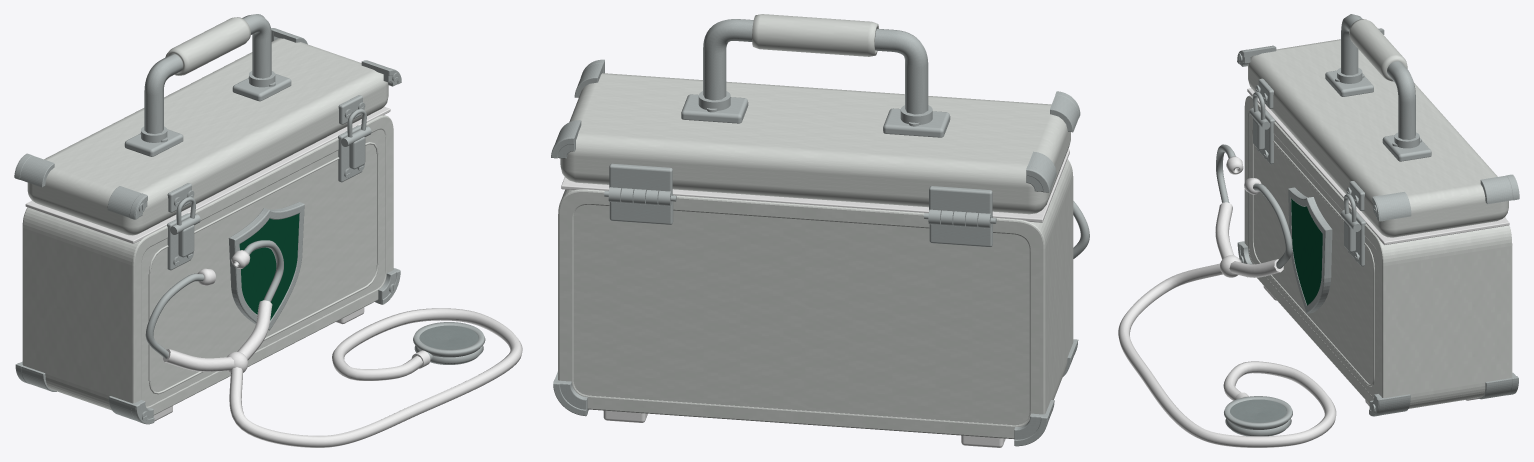
File: medical.glb
3 renders of one model, left to right at view 1: azimuth 30°, elevation 25°; view 2: azimuth 150°, elevation 25°; view 3: azimuth 270°, elevation 25°, orthographic. The views are drawn at different scales.
Visible parts, largest first — view 1: M-Case-Lid, M-Body-Front, M-Body-Frame, M-Main-Tube, M-Badge-Plate, M-Handle-Tube, M-Gasket, M-Badge-Rim, M-Handle-Grip, M-Front-Molded-Bead, M-Chestpiece-Diaphragm, M-Latch-Lower-Plate (×2) (+10 smaller); view 2: M-Body-Back, M-Case-Lid, M-Body-Frame, M-Handle-Tube, M-Handle-Grip, M-Hinge-Lid-Leaf (×2), M-Gasket, M-Hinge-Body-Leaf (×2), M-Handle-Base-Right, M-Handle-Base-Left, M-Corner-Wrap--1-true-false, M-Corner-Wrap--1-true-true (+2 smaller); view 3: M-Body-Frame, M-Case-Lid, M-Body-Front, M-Main-Tube, M-Badge-Plate, M-Handle-Tube, M-Badge-Rim, M-Gasket, M-Handle-Grip, M-Front-Molded-Bead, M-Chestpiece-Diaphragm, M-Chestpiece-Rim (+12 smaller).
Boxes of the visible parts, left/top/right/bottom form: M-Case-Lid: left=27, top=38, right=388, bottom=235; M-Body-Front: left=141, top=129, right=385, bottom=406; M-Body-Frame: left=22, top=115, right=393, bottom=415; M-Main-Tube: left=229, top=308, right=522, bottom=447; M-Badge-Plate: left=239, top=213, right=299, bottom=320; M-Handle-Tube: left=144, top=14, right=271, bottom=133; M-Gasket: left=25, top=106, right=390, bottom=243; M-Badge-Rim: left=228, top=202, right=304, bottom=330; M-Handle-Grip: left=165, top=17, right=250, bottom=75; M-Front-Molded-Bead: left=148, top=142, right=378, bottom=394; M-Chestpiece-Diaphragm: left=419, top=325, right=478, bottom=349; M-Latch-Lower-Plate (×2): left=167, top=125, right=362, bottom=270; M-Body-Back: left=573, top=204, right=1029, bottom=425; M-Case-Lid: left=560, top=73, right=1070, bottom=214; M-Body-Frame: left=558, top=159, right=1073, bottom=438; M-Handle-Tube: left=703, top=19, right=928, bottom=114; M-Handle-Grip: left=752, top=14, right=878, bottom=56; M-Hinge-Lid-Leaf (×2): left=609, top=163, right=992, bottom=217; M-Gasket: left=561, top=149, right=1069, bottom=222; M-Hinge-Body-Leaf (×2): left=609, top=194, right=992, bottom=247; M-Handle-Base-Right: left=681, top=94, right=748, bottom=123; M-Handle-Base-Left: left=883, top=108, right=950, bottom=137; M-Corner-Wrap--1-true-false: left=1026, top=151, right=1056, bottom=192; M-Corner-Wrap--1-true-true: left=1050, top=91, right=1079, bottom=132; M-Body-Frame: left=1244, top=95, right=1512, bottom=408; M-Case-Lid: left=1248, top=39, right=1508, bottom=237; M-Body-Front: left=1249, top=113, right=1378, bottom=397; M-Main-Tube: left=1118, top=263, right=1336, bottom=447; M-Badge-Plate: left=1291, top=198, right=1322, bottom=305; M-Handle-Tube: left=1341, top=14, right=1415, bottom=139; M-Badge-Rim: left=1288, top=187, right=1332, bottom=313; M-Gasket: left=1247, top=88, right=1509, bottom=245; M-Handle-Grip: left=1349, top=19, right=1407, bottom=81; M-Front-Molded-Bead: left=1252, top=127, right=1374, bottom=386; M-Chestpiece-Diaphragm: left=1230, top=399, right=1286, bottom=422; M-Chestpiece-Rim: left=1224, top=396, right=1292, bottom=429.
Bounding box in the file's own units: 3.2 × 2.26 × 2.69.
5 materials, 5 textured.
